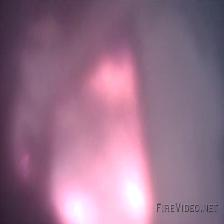fire: (22, 33, 216, 224)
